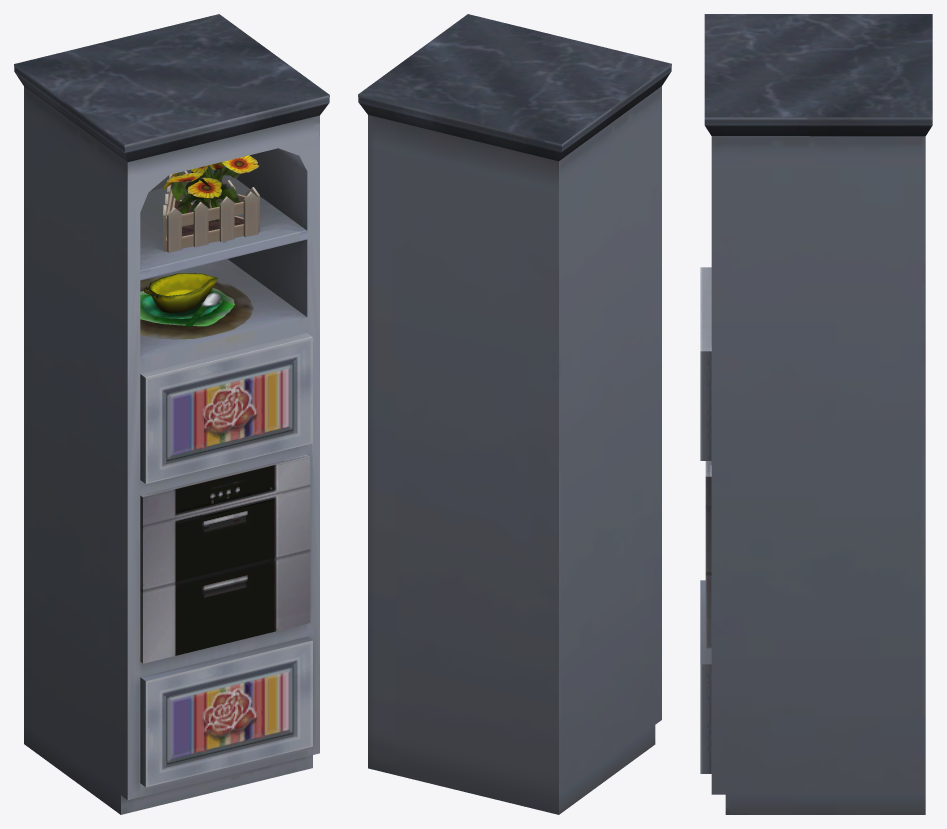
Rendered from furni_0200622.FBX.
3 renders of one model, left to right at view 1: azimuth 30°, elevation 25°; view 2: azimuth 150°, elevation 25°; view 3: azimuth 270°, elevation 25°, orthographic. The views are drawn at different scales.
Visible parts, largest first — view 1: furni_0200622; view 2: furni_0200622; view 3: furni_0200622.
Boxes of the visible parts, x1,y1,x2,y2 form: furni_0200622: (14, 14, 329, 814); furni_0200622: (358, 14, 671, 814); furni_0200622: (700, 14, 932, 814).
Size of the model in its own units: 85.42 by 270 by 81.23.
1 material, 1 textured.
